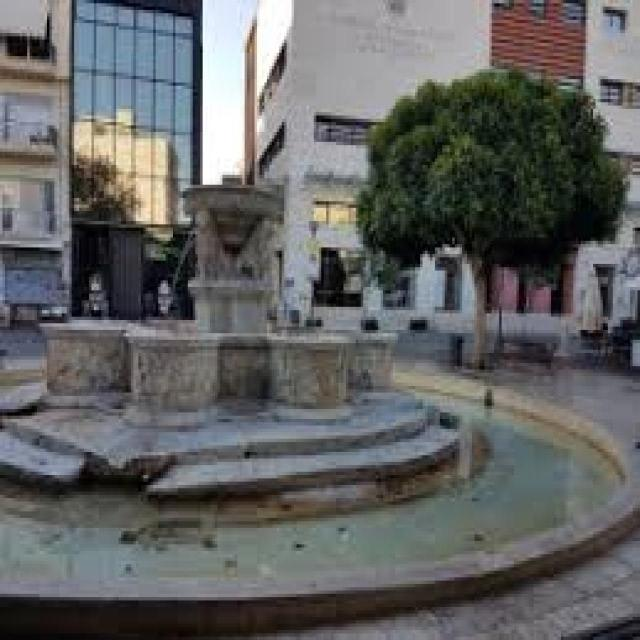Liontaria: (47, 174, 395, 425)
